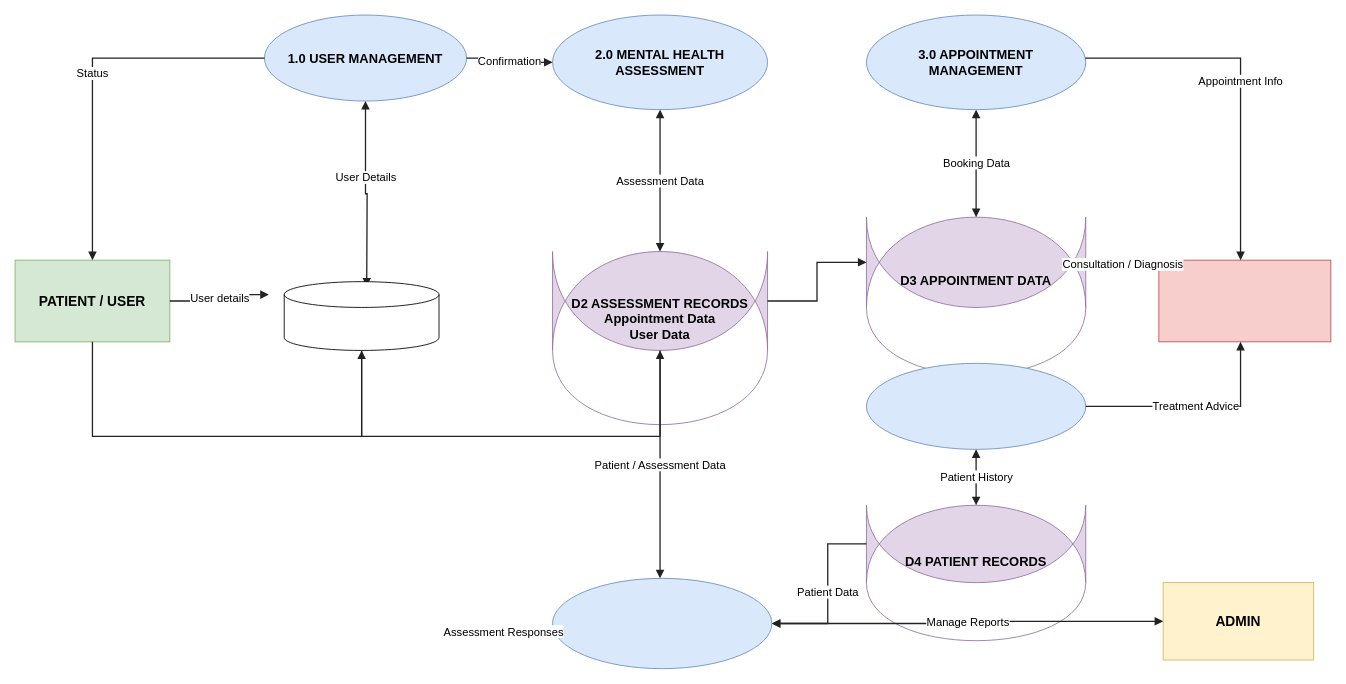
This 1346x684 diagram has some shape labels left out. The box of each missing label's shape, as (x1, y1, x2, y2) in pixels:
4.0 CONSULTATION & TREATMENT: (866, 362, 1086, 449)
5.0 ADMINISTRATION & REPORTS: (552, 577, 772, 669)
D1 login register: (283, 281, 439, 350)
MENTAL HEALTH PROFESSIONAL: (1158, 259, 1331, 342)
